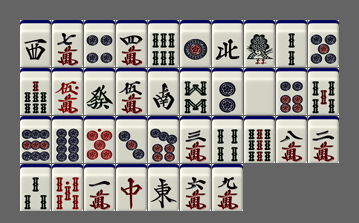0m: (52, 68, 83, 115)
0p: (84, 116, 115, 163)
0s: (52, 164, 83, 211)
1m: (84, 164, 115, 211)
1p: (180, 20, 211, 67)
1s: (244, 20, 275, 67)
1z: (148, 164, 179, 211)
2m: (308, 116, 339, 163)
2p: (212, 68, 243, 115)
2s: (276, 20, 307, 67)
2z: (148, 68, 179, 115)
3m: (180, 116, 211, 163)
3p: (116, 116, 147, 163)
3s: (20, 164, 51, 211)
3z: (20, 20, 51, 67)
4m: (116, 20, 147, 67)
4p: (84, 20, 115, 67)
4s: (212, 116, 243, 163)
4z: (212, 20, 243, 67)
5m: (116, 68, 147, 115)
5p: (308, 20, 339, 67)
5s: (308, 68, 339, 115)
5z: (244, 68, 275, 115)
6m: (180, 164, 211, 211)
6p: (276, 68, 307, 115)
6s: (148, 20, 179, 67)
6z: (84, 68, 115, 115)
7m: (52, 20, 83, 67)
7p: (148, 116, 179, 163)
7s: (20, 68, 51, 115)
7z: (116, 164, 147, 211)
8m: (276, 116, 307, 163)
8p: (52, 116, 83, 163)
8s: (180, 68, 211, 115)
9m: (212, 164, 243, 211)
9p: (20, 116, 51, 163)
9s: (244, 116, 275, 163)
